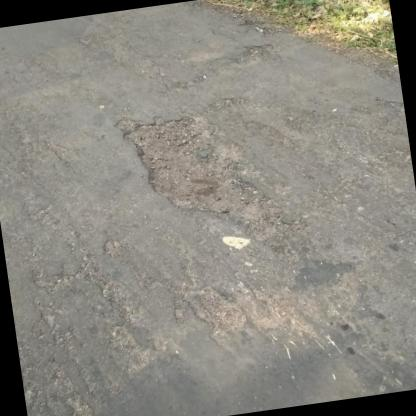pothole: (113, 96, 273, 238), (238, 38, 276, 64)
